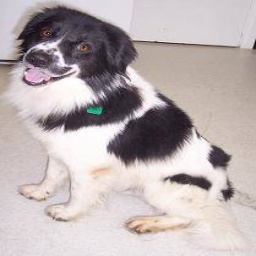dog: (13, 6, 235, 238)
